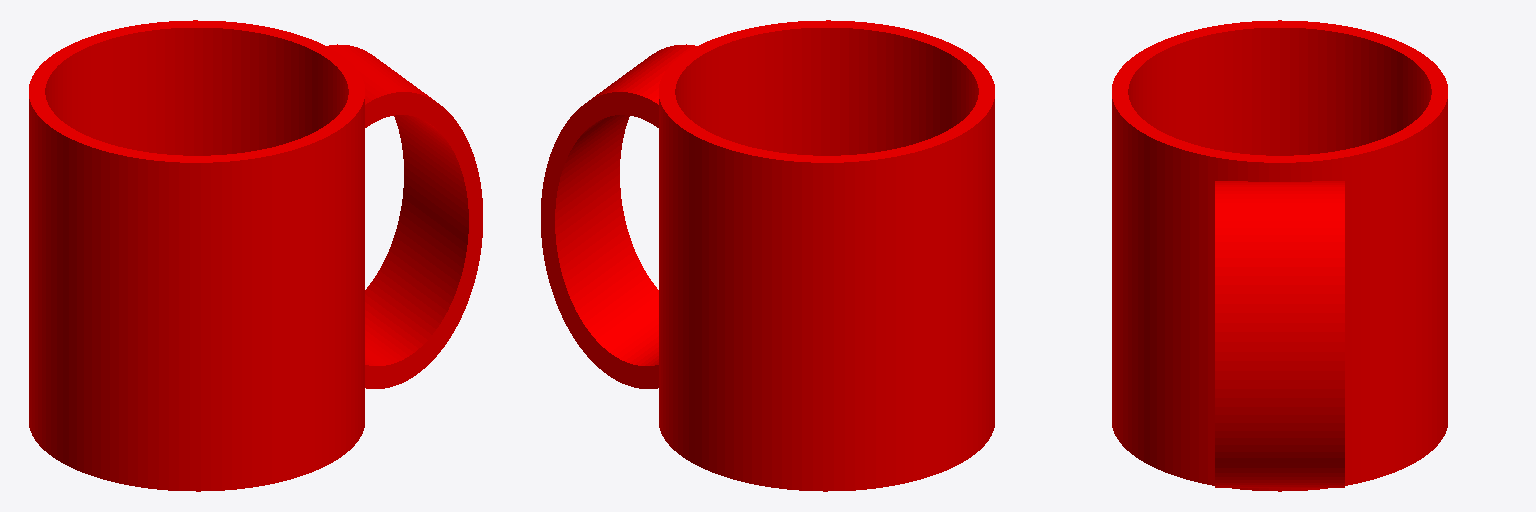
URDF robot description (mug.urdf):
<?xml version="1.0" ?>
<robot name="mug.urdf">
  <link name="baseLink">
    <inertial>
      <origin rpy="0 0 0" xyz="0 0 0"/>
       <mass value=".1"/>
       <inertia ixx="1" ixy="0" ixz="0" iyy="1" iyz="0" izz="1"/>
    </inertial>
    <contact>
      <lateral_friction value="1.0"/>
      <inertia_scaling value="3.0"/>
    </contact>
    <visual>
      <origin rpy="0 0 0" xyz="0 0 0"/>
      <geometry>
        <mesh filename="0.stl" scale="1 1 1" />
      </geometry>
      <material name="red">
        <color rgba="1 0 0 1"/>
      </material>
    </visual>
    <collision>
      <origin rpy="0 0 0" xyz="0 0 0"/>
      <geometry>
        <mesh filename="0_convex.obj" scale="1 1 1" />
      </geometry>
    </collision>
  </link>
</robot>

--- Render facts (derived) ---
The picture shows the robot from 3 angles, left to right: view 1: azimuth 30°, elevation 25°; view 2: azimuth 150°, elevation 25°; view 3: azimuth 270°, elevation 25°; orthographic projection.
Robot: mug.urdf — 1 links, 0 joints (none); root link baseLink; default pose: every joint at zero.
Visible links, largest first — view 1: baseLink; view 2: baseLink; view 3: baseLink.
Link boxes in pixels (left/top/right/bottom): baseLink: left=29, top=20, right=482, bottom=491; baseLink: left=541, top=20, right=994, bottom=491; baseLink: left=1112, top=20, right=1447, bottom=491.
Bounding box of the posed robot: 0.138 × 0.1007 × 0.1084 m (x, y, z).
Meshes: 1 distinct files referenced, 1 mesh visuals loaded (1 binary STL).